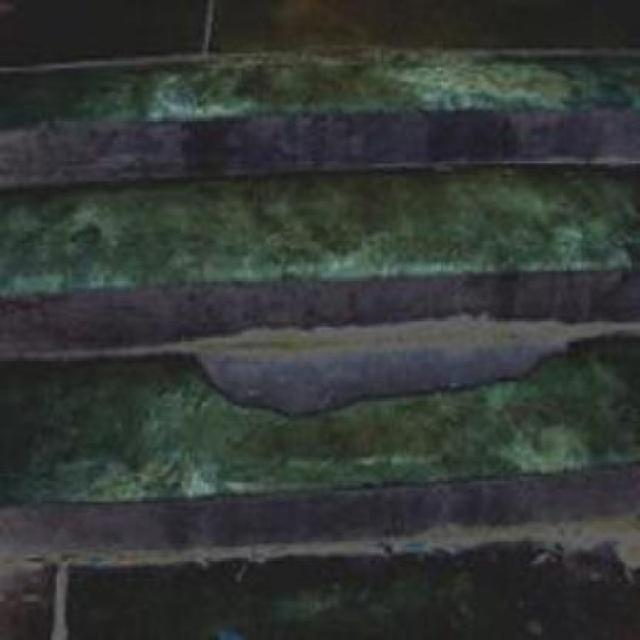stair: (0, 99, 640, 566)
